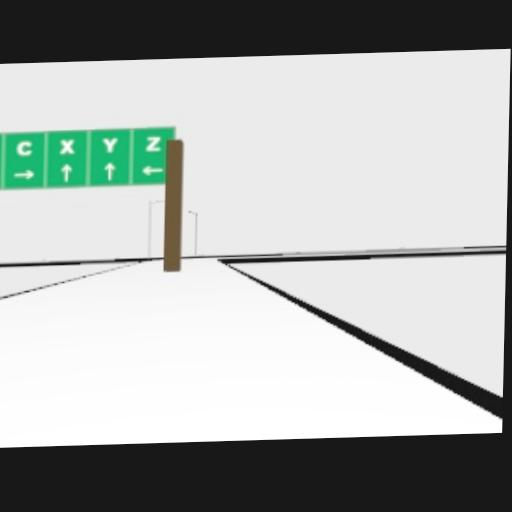C: (16, 140, 31, 156)
Left: (142, 165, 163, 176)
Right: (12, 169, 34, 180)
Straight: (103, 161, 115, 180), (59, 163, 71, 181)
X: (58, 138, 73, 154)
Y: (102, 137, 118, 152)
Z: (145, 136, 160, 151)
